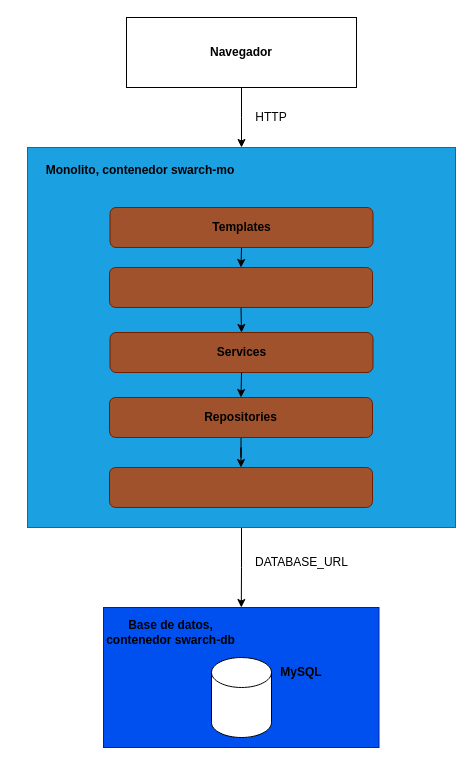
Some shapes in this 473 by 765 pixel diagram are drawn without their labels. Here are the shapes that lost their labels. From the top down, the centre of each, then its label:
At point 240,287: "Controllers".
At point 240,487: "Models".
